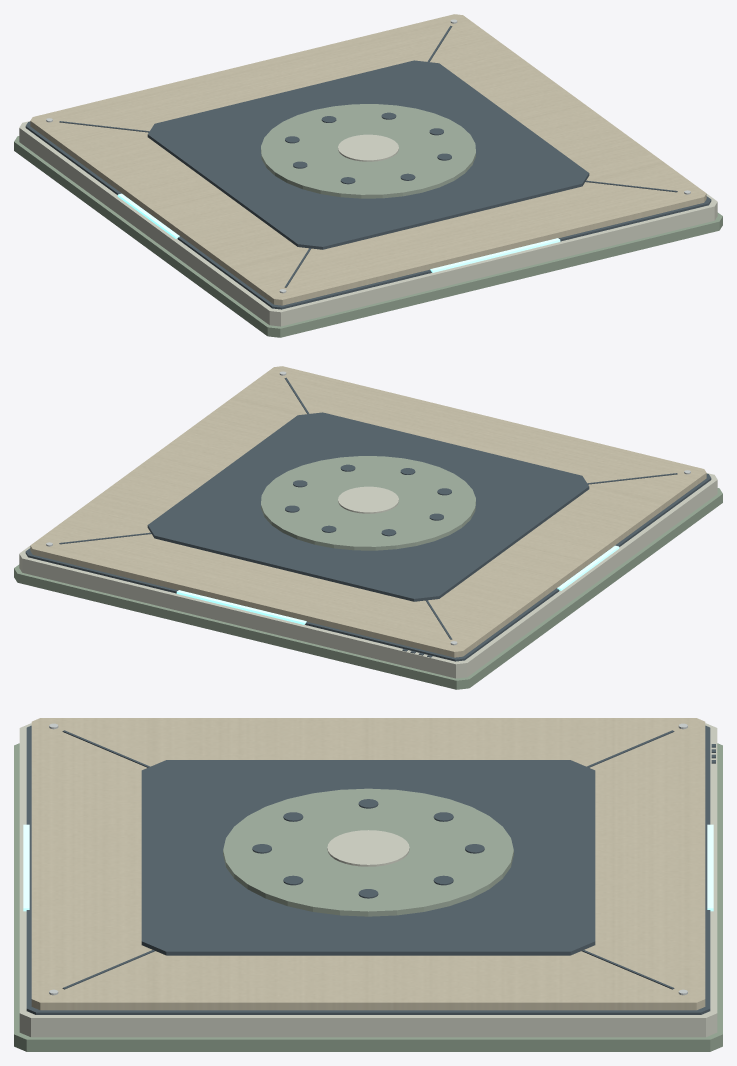
File: m01-metal-service-drain.glb
3 views of the same model, one above another, from view 1: azimuth 30°, elevation 25°; view 2: azimuth 150°, elevation 25°; view 3: azimuth 270°, elevation 25° (orthographic). The views are drawn at different scales.
Visible parts, largest first — view 1: service-drain/003, service-drain/020, service-drain/021, service-drain/001, service-drain/000, service-drain/002, service-drain/030, service-drain/014; view 2: service-drain/003, service-drain/020, service-drain/021, service-drain/001, service-drain/000, service-drain/002, service-drain/030, service-drain/013; view 3: service-drain/003, service-drain/020, service-drain/021, service-drain/001, service-drain/000, service-drain/002, service-drain/030, service-drain/013, service-drain/014.
Boxes of the visible parts, x1,y1,x2,y2 form: service-drain/003: (30,14,706,305); service-drain/020: (147,60,589,249); service-drain/021: (261,104,475,198); service-drain/001: (19,121,717,326); service-drain/000: (14,136,722,337); service-drain/002: (25,121,711,309); service-drain/030: (338,134,398,161); service-drain/014: (430,238,560,272); service-drain/003: (30,366,706,657); service-drain/020: (147,412,589,601); service-drain/021: (261,456,475,550); service-drain/001: (19,473,717,678); service-drain/000: (14,488,722,689); service-drain/002: (25,473,711,661); service-drain/030: (338,486,398,513); service-drain/013: (176,590,306,624); service-drain/003: (31,718,705,1010); service-drain/020: (141,760,595,955); service-drain/021: (223,788,513,916); service-drain/001: (19,723,717,1037); service-drain/000: (14,743,722,1051); service-drain/002: (26,725,710,1014); service-drain/030: (327,830,409,866); service-drain/013: (707,824,713,911); service-drain/014: (23,824,29,911).
Bounding box in the file's own units: 1 × 0.085 × 1.
7 materials, 1 textured.
